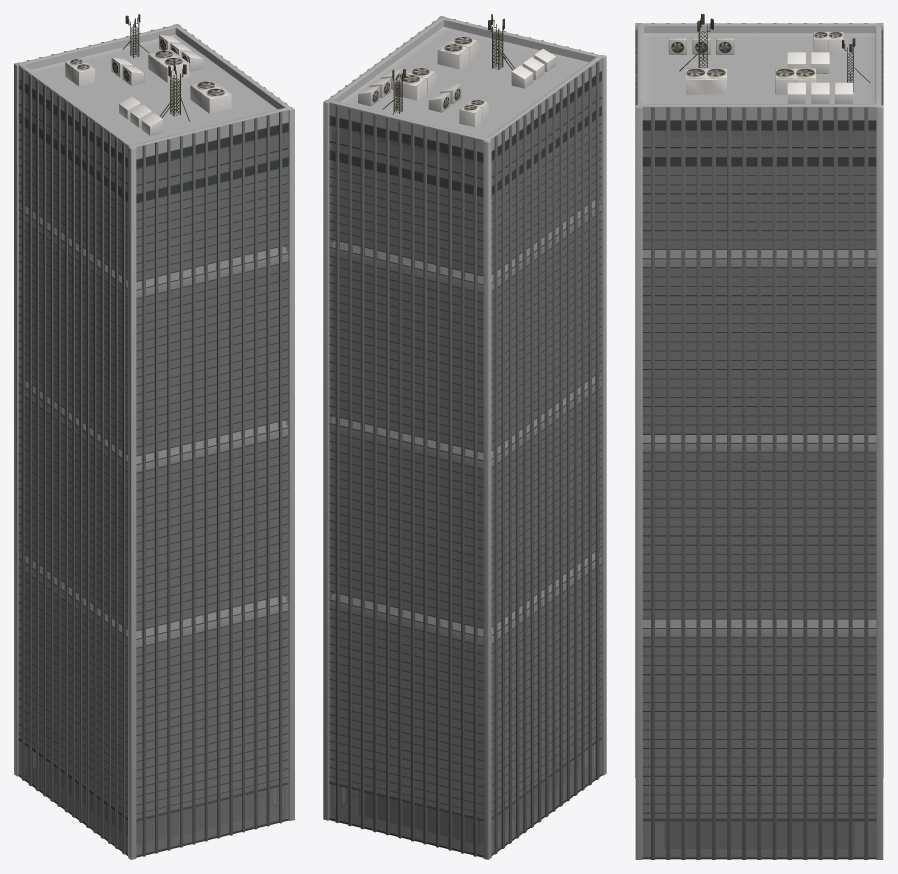
Rendered from realcity_09.gltf.
3 renders of one model, left to right at view 1: azimuth 30°, elevation 25°; view 2: azimuth 150°, elevation 25°; view 3: azimuth 270°, elevation 25°, orthographic. The views are drawn at different scales.
Visible parts, largest first — view 1: realcity_09; view 2: realcity_09; view 3: realcity_09.
Part boxes in pixels (x1,y1,x2,y2): realcity_09: [14, 14, 294, 859]; realcity_09: [323, 14, 606, 859]; realcity_09: [635, 14, 883, 859].
Bounding box in the file's own units: 21.88 × 96.03 × 27.09.
Materials: 8 (2 with a texture image).
